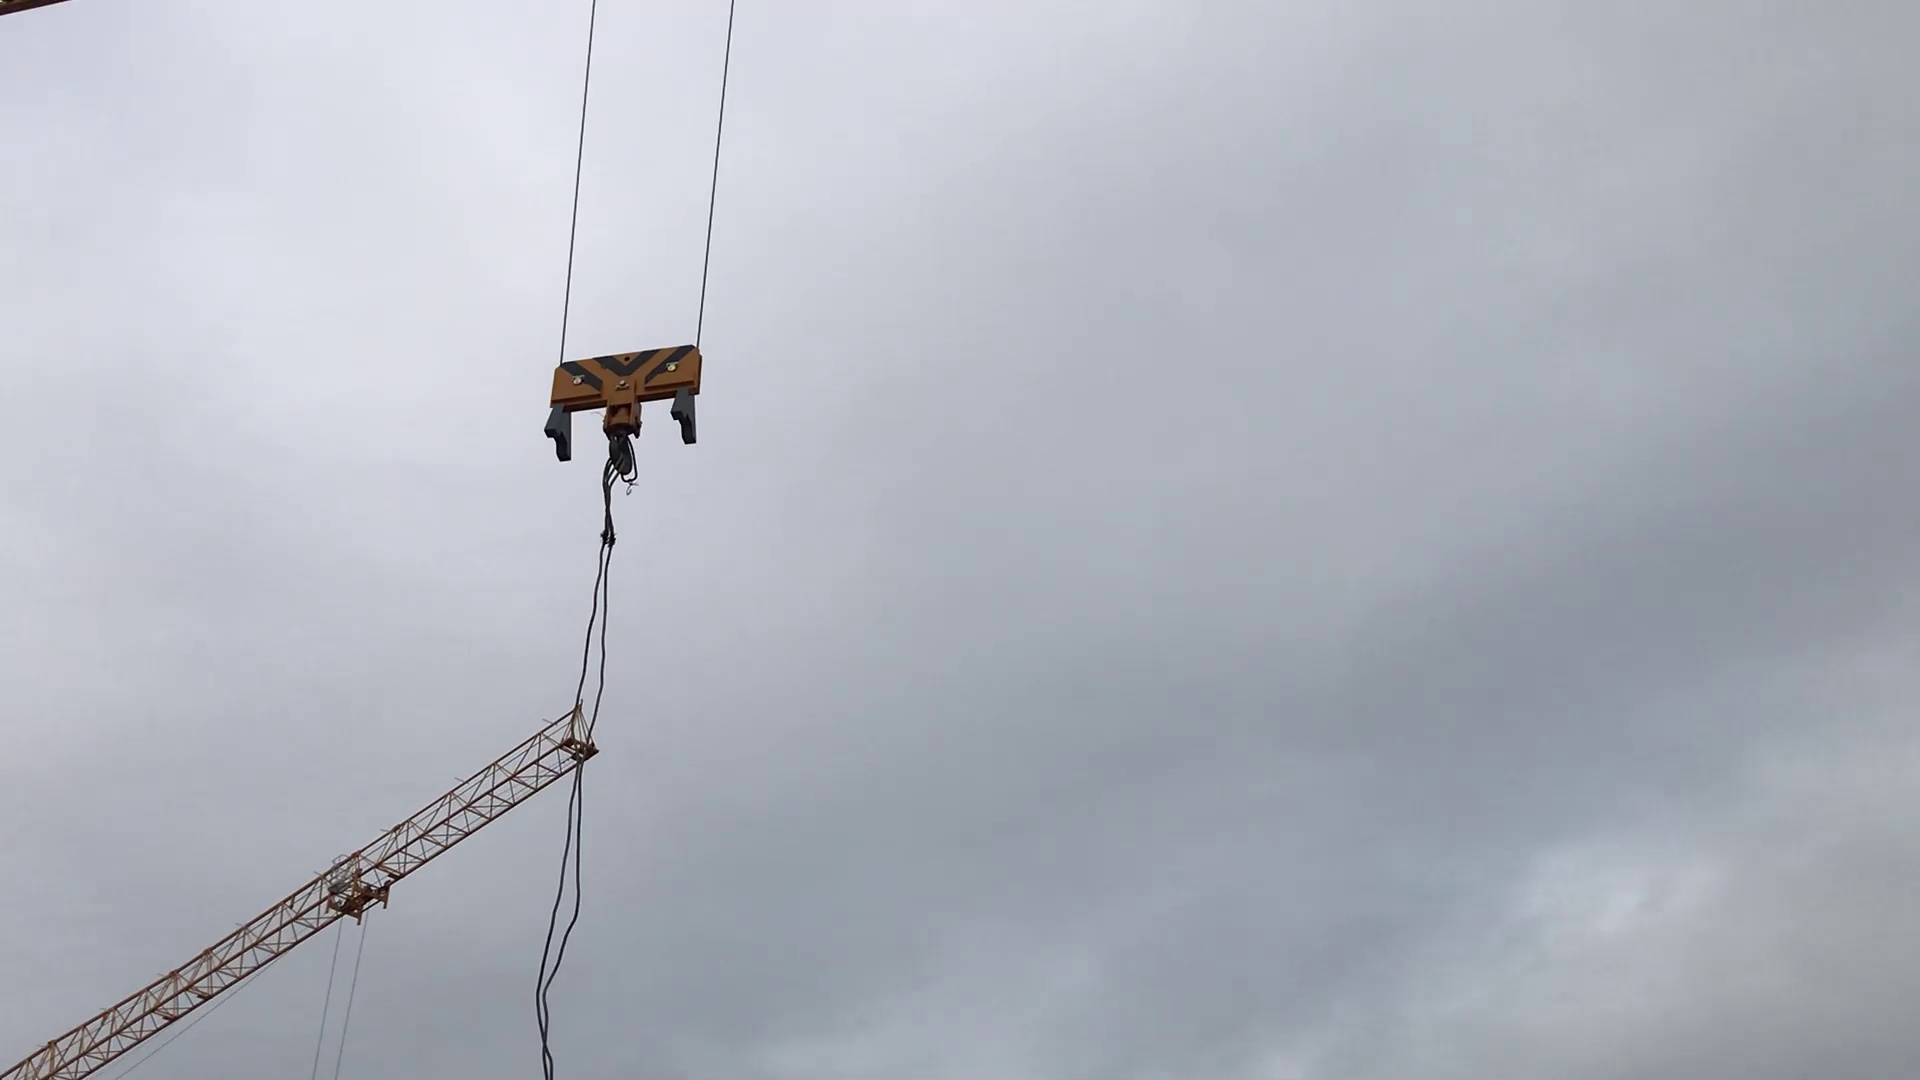hook: (531, 342, 717, 501)
